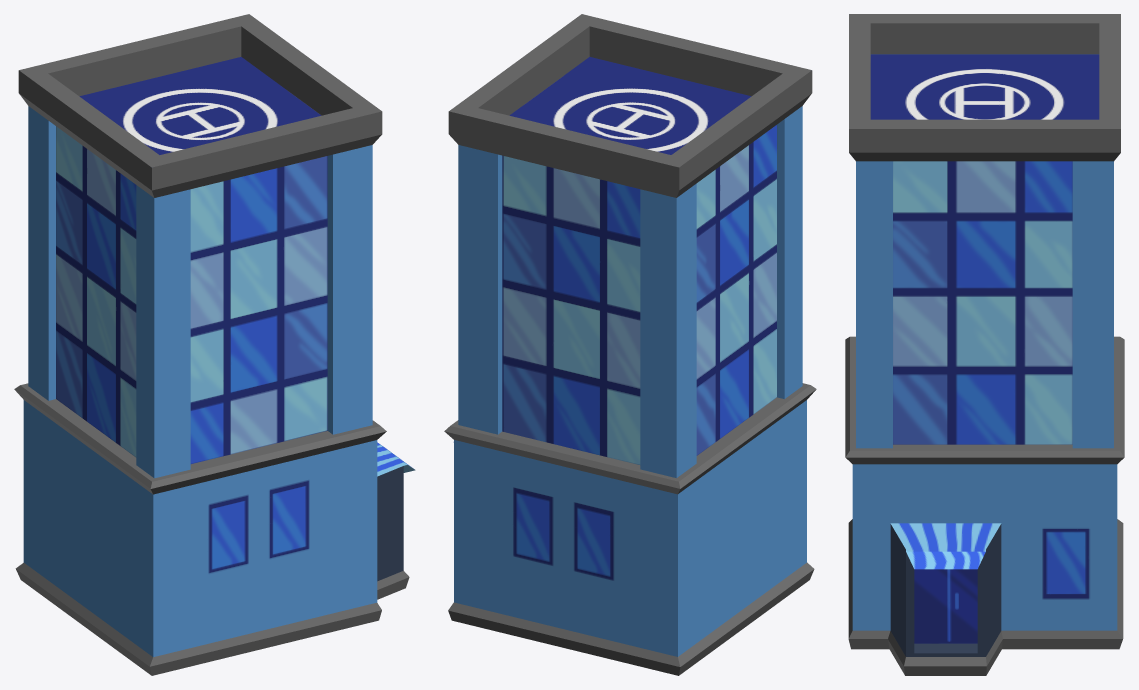
Rendered from building_T2.fbx.
The picture shows the model from 3 angles, left to right: view 1: azimuth 30°, elevation 25°; view 2: azimuth 150°, elevation 25°; view 3: azimuth 270°, elevation 25°; orthographic projection. The views are drawn at different scales.
Visible parts, largest first — view 1: Cube; view 2: Cube; view 3: Cube.
Boxes of the visible parts, x1=… form: Cube: x1=14, y1=14, x2=415, y2=675; Cube: x1=444, y1=14, x2=816, y2=675; Cube: x1=845, y1=14, x2=1124, y2=675.
Bounding box in the file's own units: 206 × 336 × 163.
